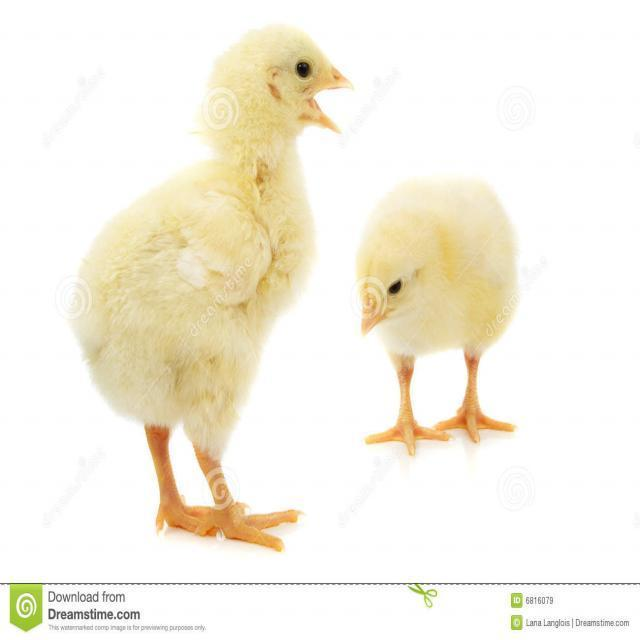poussin: (78, 21, 352, 558), (357, 180, 526, 460)
